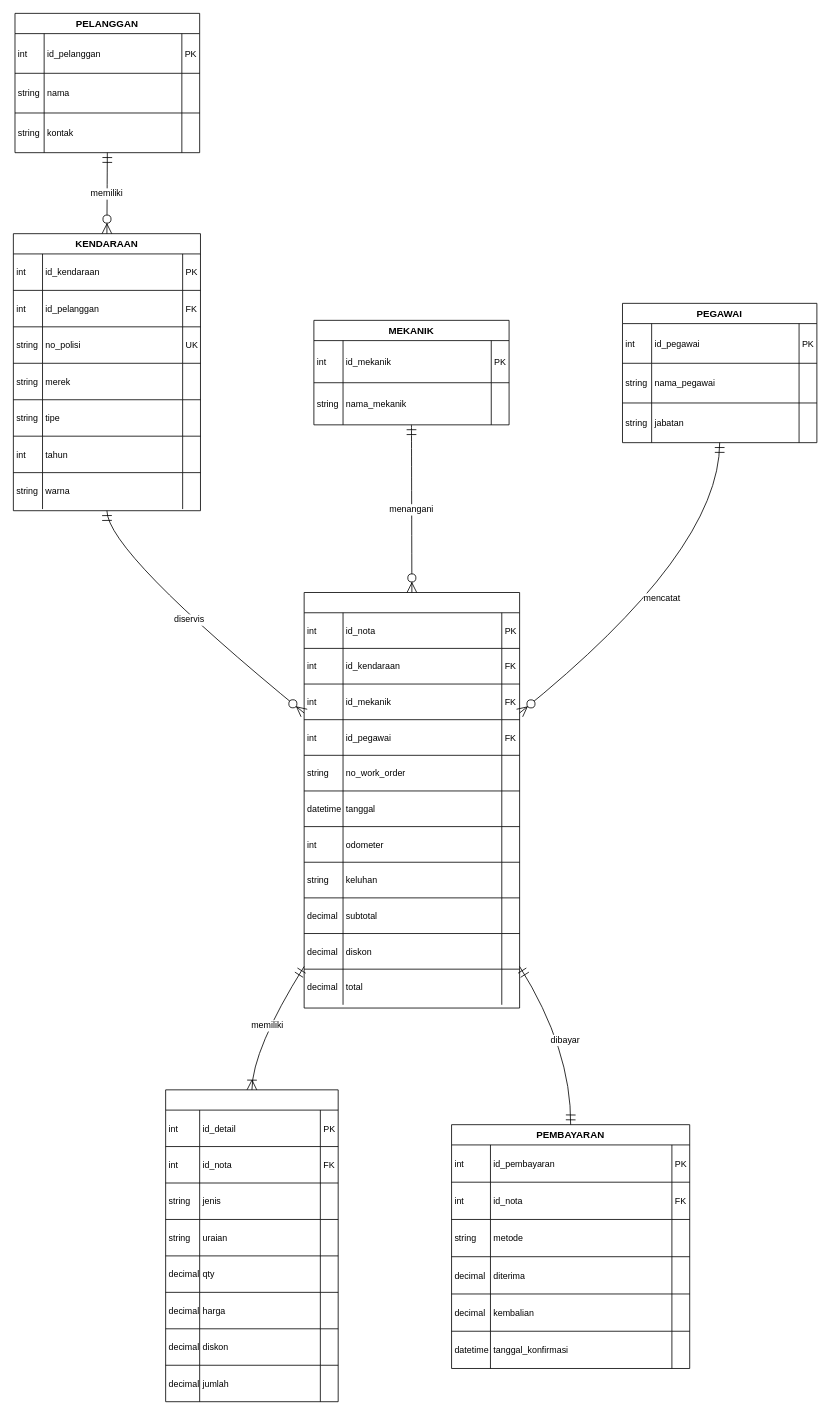
Image size: 830x1415. Some labels were removed from this diagram. The box of each missing label's shape, as (x1, y1, x2, y2) in pixels:
DETAIL_SERVIS: (165, 1089, 338, 1402)
NOTA_SERVIS: (303, 592, 520, 1008)
